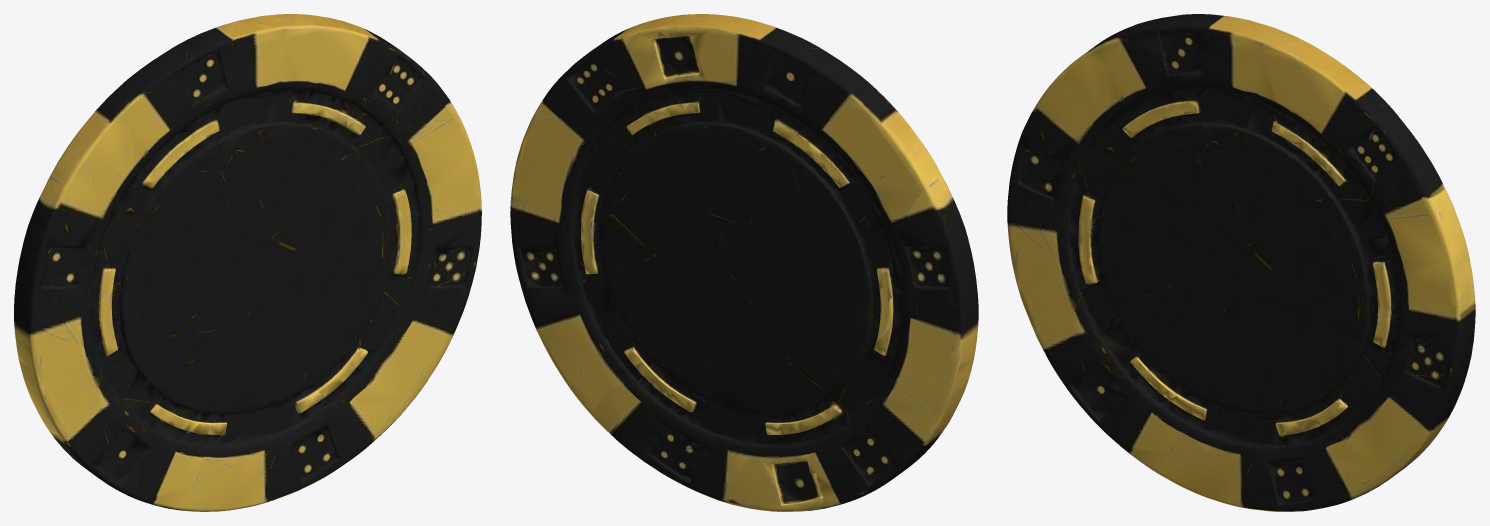
Rendered from chip-mobile-dbc05d270c53.glb.
3 views of the same model, side by side, from view 1: azimuth 30°, elevation 25°; view 2: azimuth 150°, elevation 25°; view 3: azimuth 330°, elevation 25° (orthographic).
Parts seen in each view (by area): view 1: node_0; view 2: node_0; view 3: node_0.
Part boxes in pixels (<box>): node_0: <box>14,14,481,511</box>; node_0: <box>510,14,978,511</box>; node_0: <box>1007,14,1475,511</box>.
Size of the model in its own units: 0.003 by 0.003 by 0.000201.
1 material, 1 textured.
